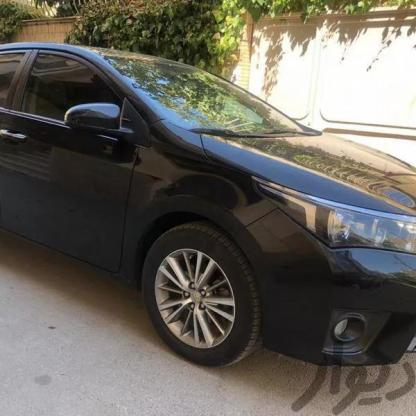Car: (0, 44, 413, 376)
